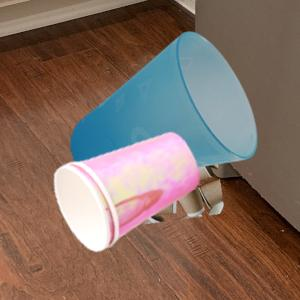cup: (52, 131, 201, 254)
